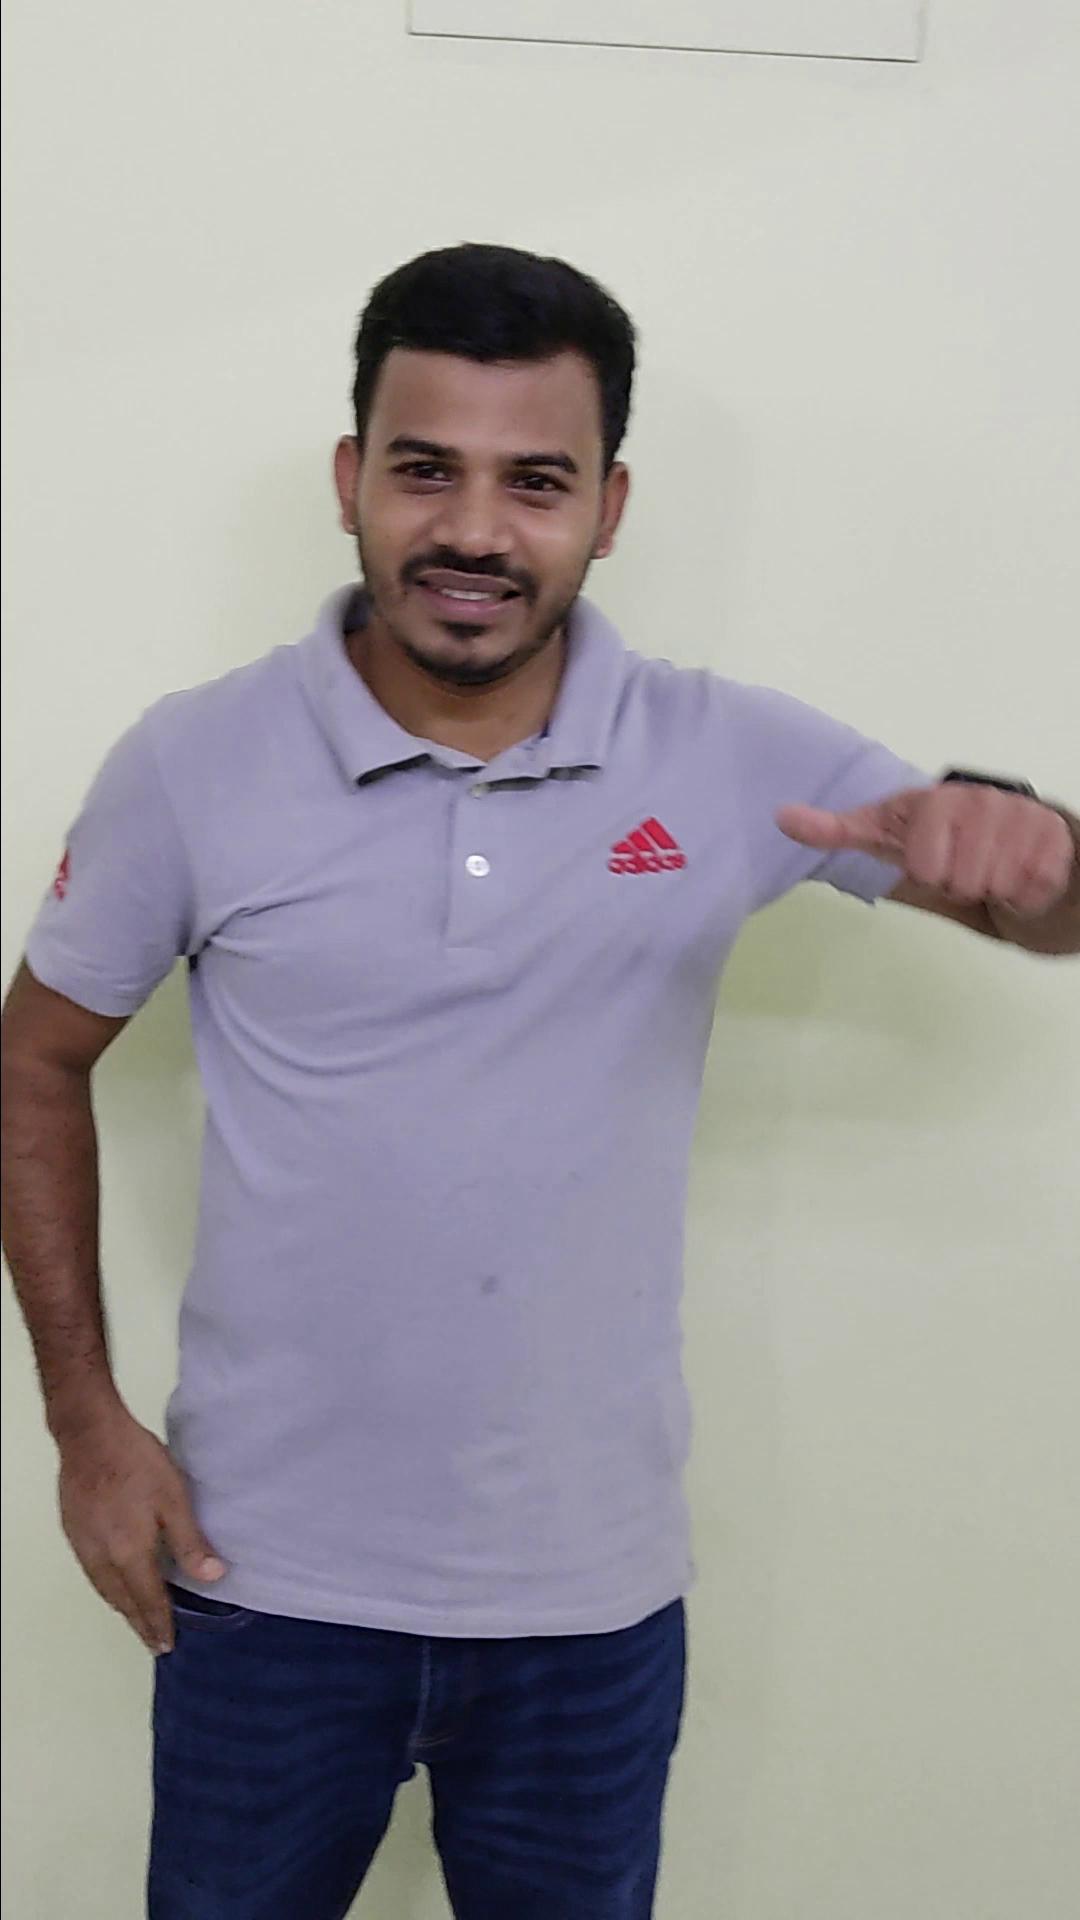Like: (761, 702, 1080, 996)
None: (47, 1386, 262, 1681)
